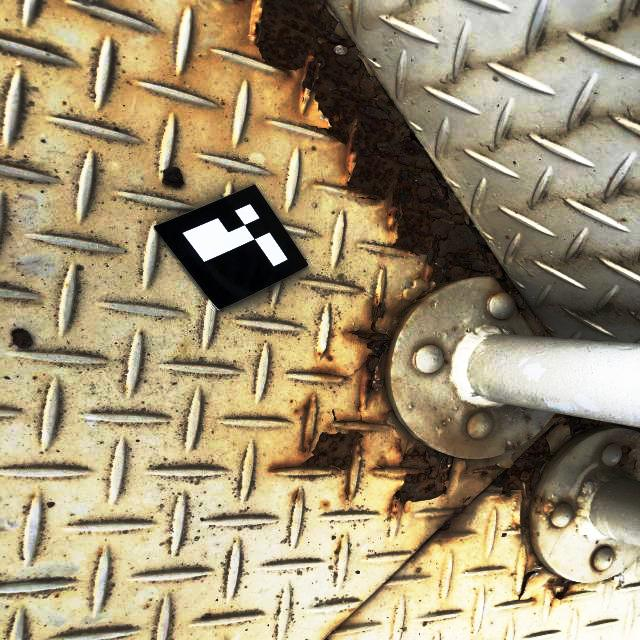Corrosion: (254, 0, 520, 311), (485, 413, 640, 506), (347, 301, 417, 397), (392, 440, 455, 508), (271, 429, 366, 471), (438, 493, 473, 532), (331, 403, 380, 424), (518, 571, 538, 601), (552, 578, 571, 601), (621, 448, 633, 459), (479, 471, 489, 476)
